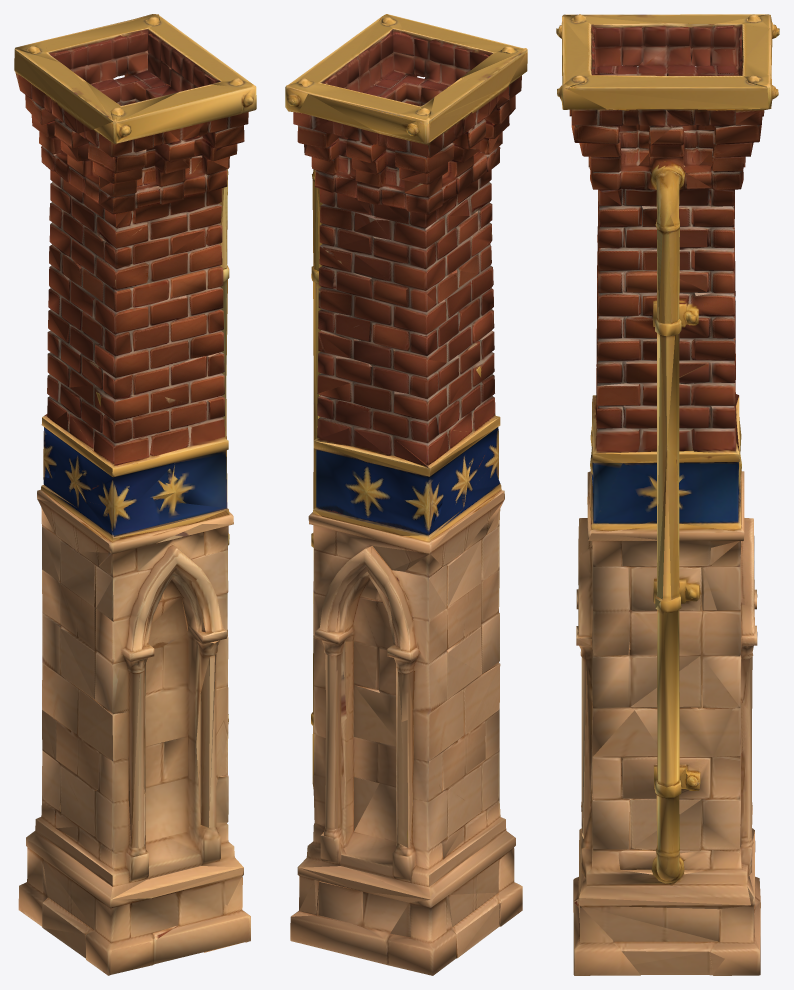
The model's file is battery-stack.glb.
3 views of the same model, side by side, from view 1: azimuth 30°, elevation 25°; view 2: azimuth 150°, elevation 25°; view 3: azimuth 270°, elevation 25° (orthographic). The views are drawn at different scales.
Visible parts, largest first — view 1: Mesh_0; view 2: Mesh_0; view 3: Mesh_0.
Boxes of the visible parts, box(x1,y1,x2,y2) form: Mesh_0: box(14, 14, 256, 975); Mesh_0: box(285, 14, 527, 975); Mesh_0: box(556, 14, 779, 975).
Size of the model in its own units: 4.42 by 22.03 by 4.99.
Materials: 1 (1 with a texture image).
